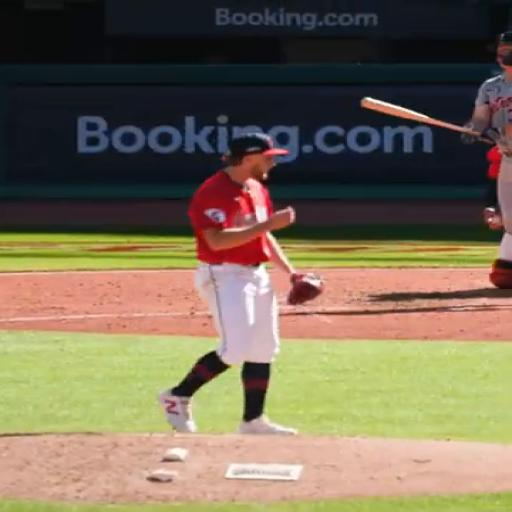bat: (362, 97, 493, 143)
